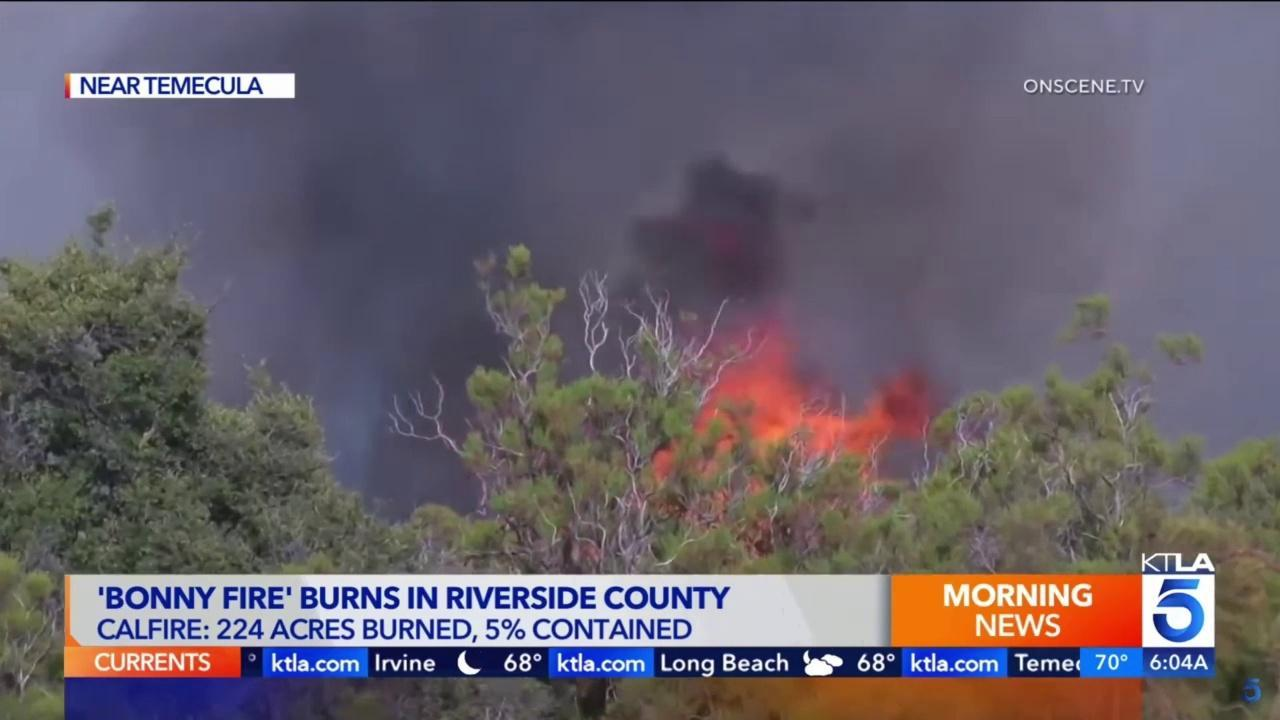fire: (651, 313, 932, 545)
smoke: (56, 3, 1180, 545)
